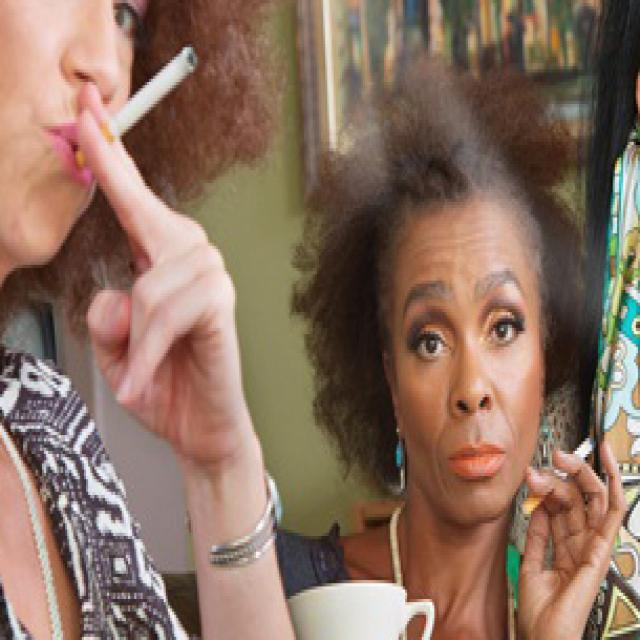smoking: (77, 44, 196, 168), (522, 434, 593, 518)
